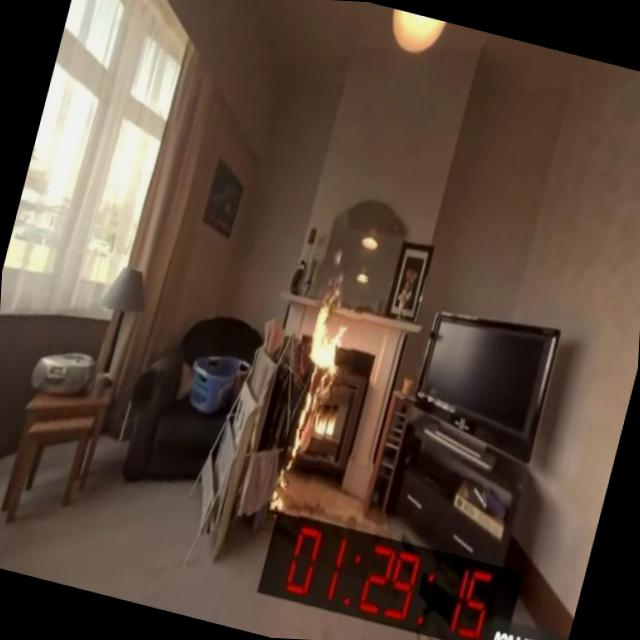fire: (252, 252, 407, 470)
